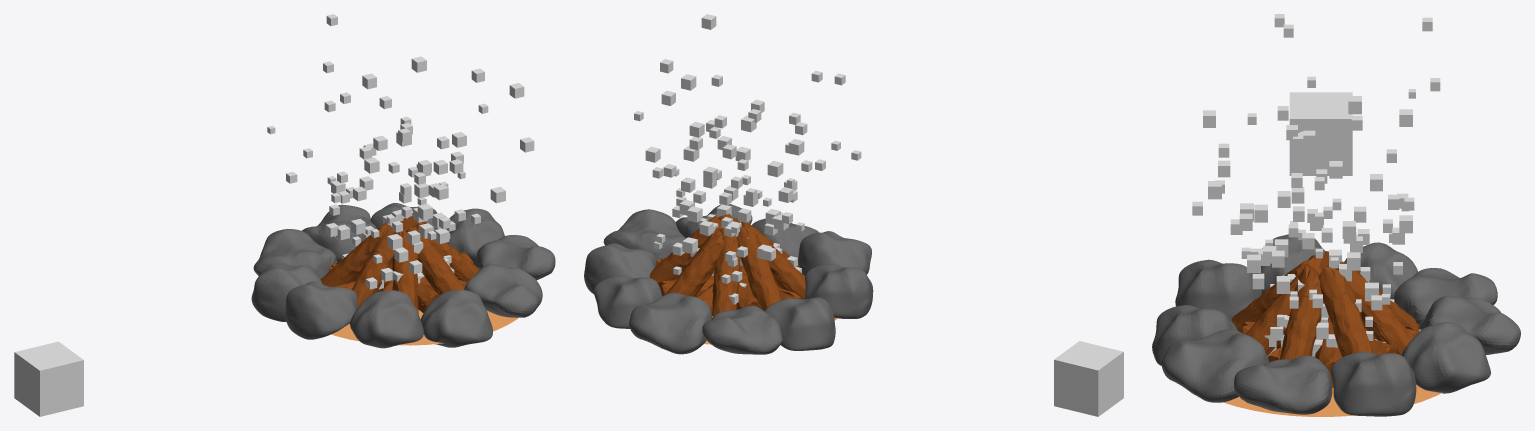
The model's file is Firecamp (2).fbx.
The picture shows the model from 3 angles, left to right: view 1: azimuth 30°, elevation 25°; view 2: azimuth 150°, elevation 25°; view 3: azimuth 270°, elevation 25°; orthographic projection. The views are drawn at different scales.
Parts seen in each view (by area): view 1: flammes, Icosphère.012, Icosphère.011, Icosphère.003, Icosphère.004, Icosphère.009, Icosphère.005, Icosphère.010, Icosphère.006, Icosphère.008, Cylindre.010, Cylindre.014 (+4 smaller); view 2: flammes, Icosphère.008, Icosphère.009, Icosphère.010, Icosphère.012, Icosphère.007, Icosphère.005, Icosphère.011, Icosphère.006, Cylindre.014, Cylindre.004, Cylindre.013 (+4 smaller); view 3: Icosphère.004, Icosphère.006, Icosphère.007, Icosphère.005, flammes, Icosphère.011, Icosphère.008, Icosphère.009, Cylindre.012, Icosphère.003, Cylindre.011, Cylindre.004 (+7 smaller).
Part boxes in pixels (x1,y1,x2,y2): flammes: (14, 341, 83, 416); Icosphère.012: (285, 281, 357, 339); Icosphère.011: (350, 290, 423, 348); Icosphère.003: (420, 289, 492, 347); Icosphère.004: (464, 263, 542, 317); Icosphère.009: (253, 229, 336, 279); Icosphère.005: (475, 235, 555, 280); Icosphère.010: (251, 264, 322, 321); Icosphère.006: (446, 208, 504, 264); Icosphère.008: (302, 204, 376, 261); Cylindre.010: (406, 226, 464, 294); Cylindre.014: (320, 222, 394, 286); flammes: (1054, 341, 1123, 416); Icosphère.008: (629, 292, 712, 354); Icosphère.009: (702, 306, 782, 354); Icosphère.010: (764, 297, 835, 350); Icosphère.012: (805, 264, 873, 318); Icosphère.007: (593, 275, 661, 328); Icosphère.005: (603, 209, 685, 260); Icosphère.011: (798, 231, 871, 275); Icosphère.006: (584, 243, 656, 294); Cylindre.014: (736, 227, 781, 310); Cylindre.004: (665, 227, 726, 296); Cylindre.013: (712, 228, 740, 317); Icosphère.004: (1161, 329, 1268, 402); Icosphère.006: (1331, 351, 1416, 416); Icosphère.007: (1401, 322, 1490, 393); Icosphère.005: (1234, 355, 1332, 414); flammes: (1289, 92, 1352, 175); Icosphère.011: (1175, 259, 1261, 319); Icosphère.008: (1421, 295, 1520, 354); Icosphère.009: (1394, 268, 1497, 329); Cylindre.012: (1317, 266, 1373, 356); Icosphère.003: (1152, 305, 1237, 365); Cylindre.011: (1280, 266, 1323, 359); Cylindre.004: (1349, 270, 1413, 354).
Bounding box in the file's own units: 230 × 119 × 117.
